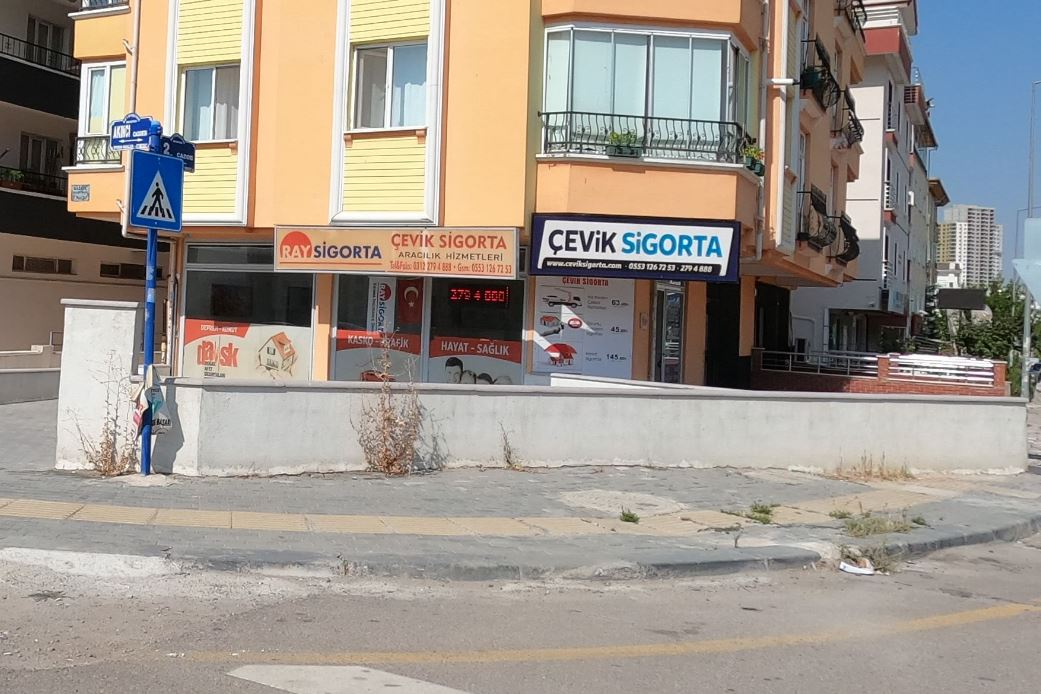Yaya Gecidi: (129, 153, 184, 227)
